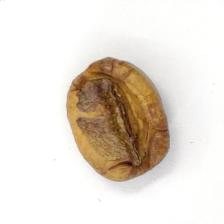NG: (73, 77, 139, 165)
